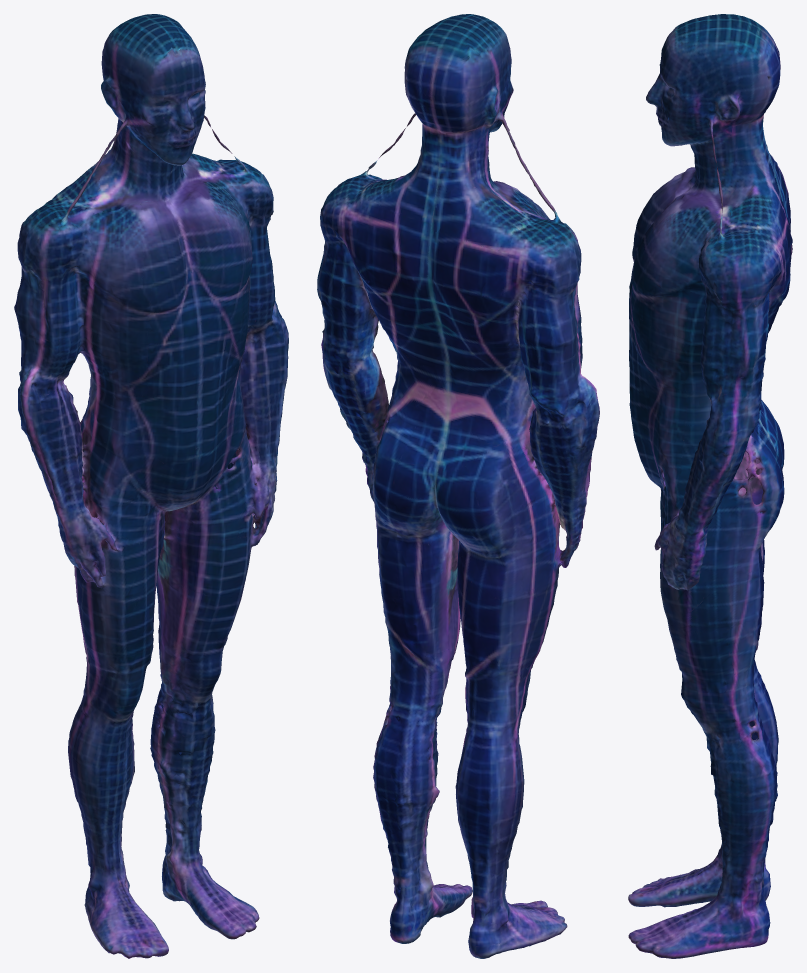
The model's file is human_head.glb.
3 views of the same model, side by side, from view 1: azimuth 30°, elevation 25°; view 2: azimuth 150°, elevation 25°; view 3: azimuth 270°, elevation 25° (orthographic). The views are drawn at different scales.
Bounding box in the file's own units: 0.6258 × 2 × 0.3296.
1 material, 1 textured.
